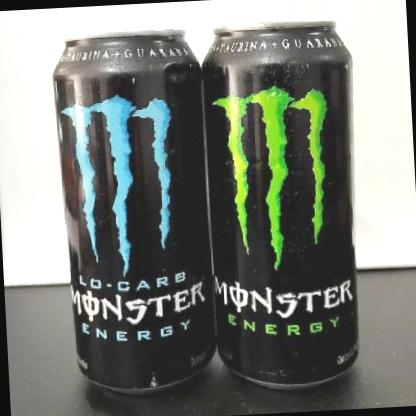alumunium_can: (200, 15, 375, 395), (45, 23, 219, 402)
